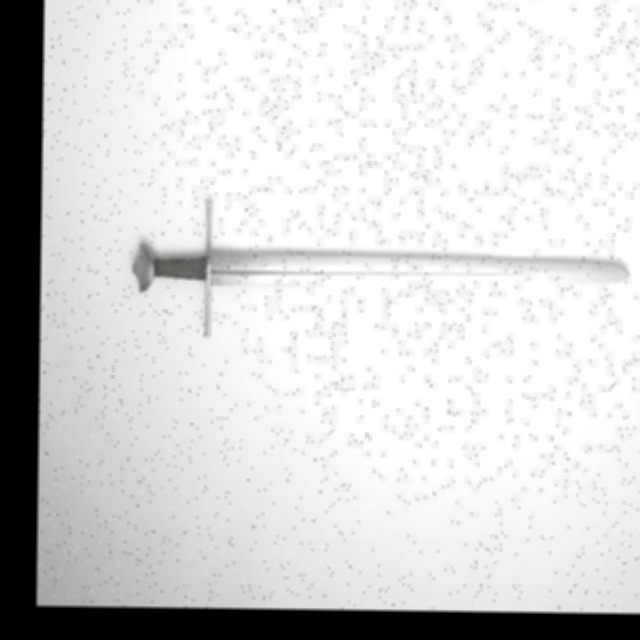Sharp-Object: (114, 230, 636, 306)
